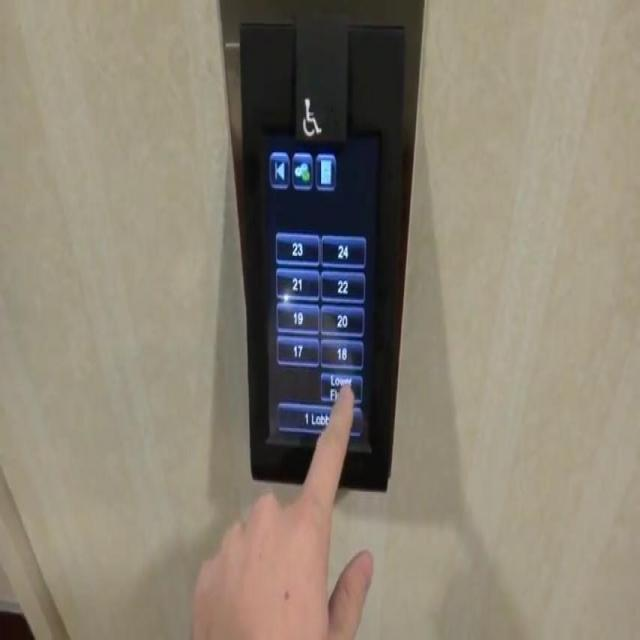17: (274, 335, 326, 364)
18: (321, 339, 368, 369)
19: (274, 297, 320, 335)
20: (320, 301, 364, 332)
21: (273, 267, 319, 300)
22: (320, 267, 366, 301)
23: (274, 229, 320, 267)
24: (322, 227, 367, 268)
CH: (296, 88, 329, 141)
unknown: (313, 145, 339, 196), (269, 148, 288, 196), (292, 147, 312, 192)
